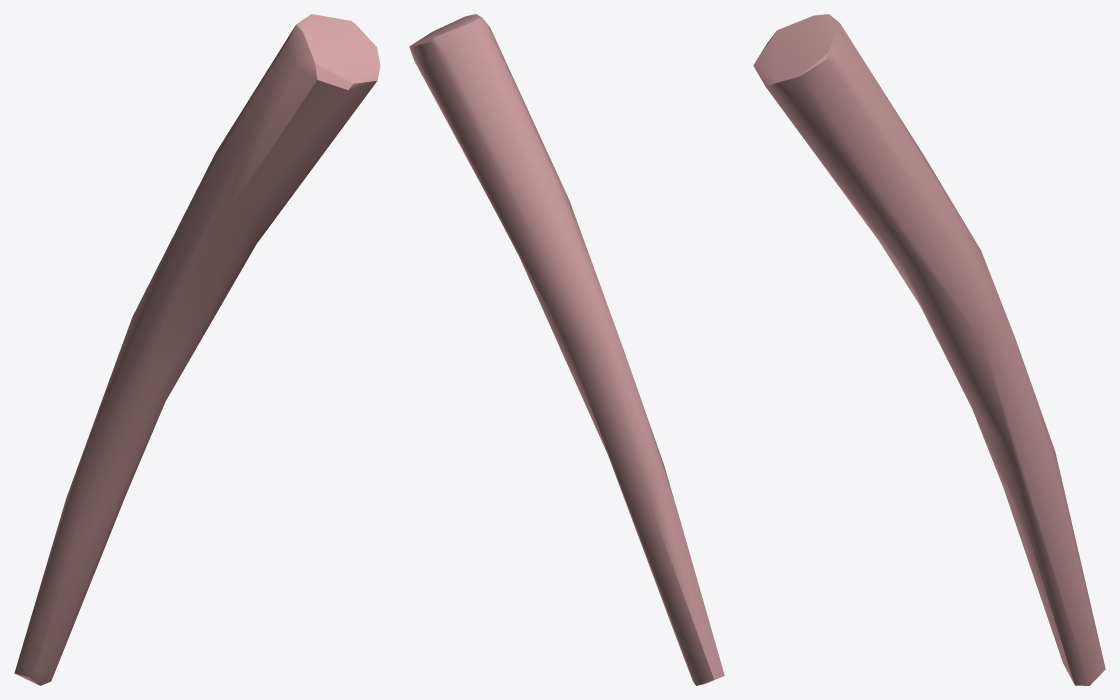
The model's file is fma68233_fj2530.glb.
3 renders of one model, left to right at view 1: azimuth 30°, elevation 25°; view 2: azimuth 210°, elevation 25°; view 3: azimuth 270°, elevation 25°, orthographic. The views are drawn at different scales.
Visible parts, largest first — view 1: FMA68233_FJ2530; view 2: FMA68233_FJ2530; view 3: FMA68233_FJ2530.
Part boxes in pixels (x1,y1,x2,y2): FMA68233_FJ2530: (14,14,380,685); FMA68233_FJ2530: (409,14,724,685); FMA68233_FJ2530: (753,14,1105,685).
Bounding box in the file's own units: 0.0102 × 0.0318 × 0.0138.
